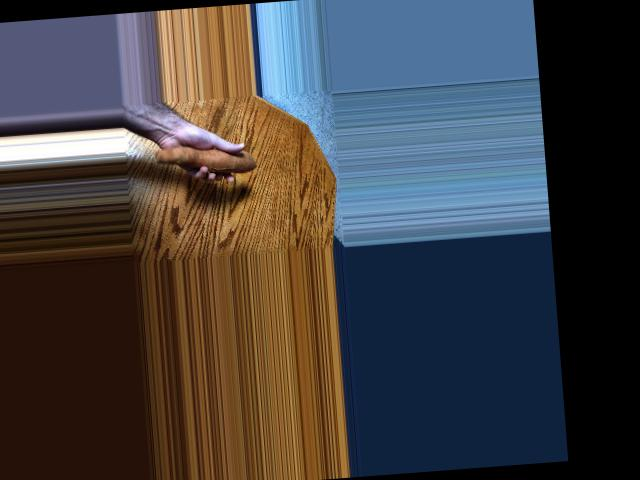sweet_potato: (144, 131, 258, 181)
